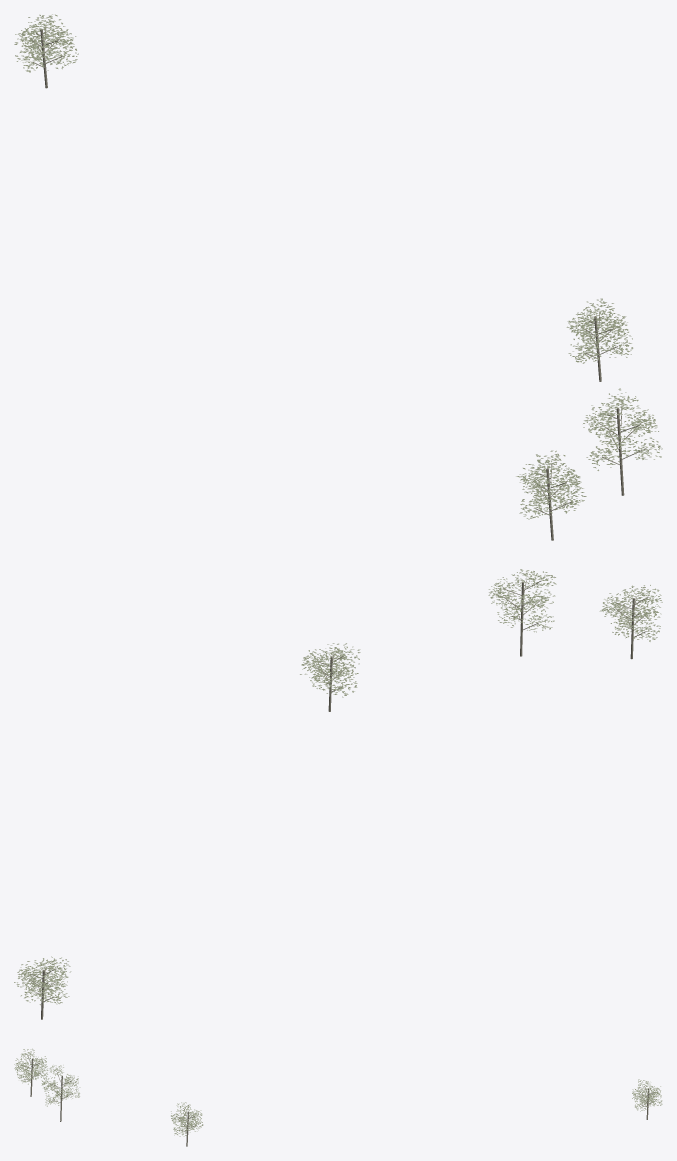
Rendered from AE_ColonisingTrees_0.fbx.
3 views of the same model, one above another, from view 1: azimuth 30°, elevation 25°; view 2: azimuth 150°, elevation 25°; view 3: azimuth 270°, elevation 25° (orthographic). The views are drawn at different scales.
Visible parts, largest first — view 1: AE_ColonisingTrees_0_LOD0; view 2: AE_ColonisingTrees_0_LOD0; view 3: AE_ColonisingTrees_0_LOD0.
Part boxes in pixels (left/top/right/bottom): AE_ColonisingTrees_0_LOD0: left=14, top=14, right=662, bottom=540; AE_ColonisingTrees_0_LOD0: left=14, top=569, right=662, bottom=1019; AE_ColonisingTrees_0_LOD0: left=14, top=1048, right=662, bottom=1146.
Size of what is drawn, in the model's own units: 2068 by 764 by 8743.
